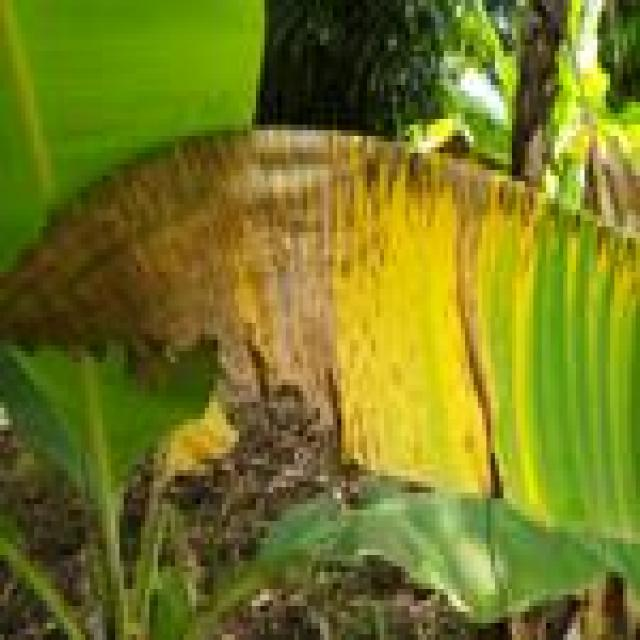Early_rust: (296, 111, 640, 537), (127, 357, 257, 508)
